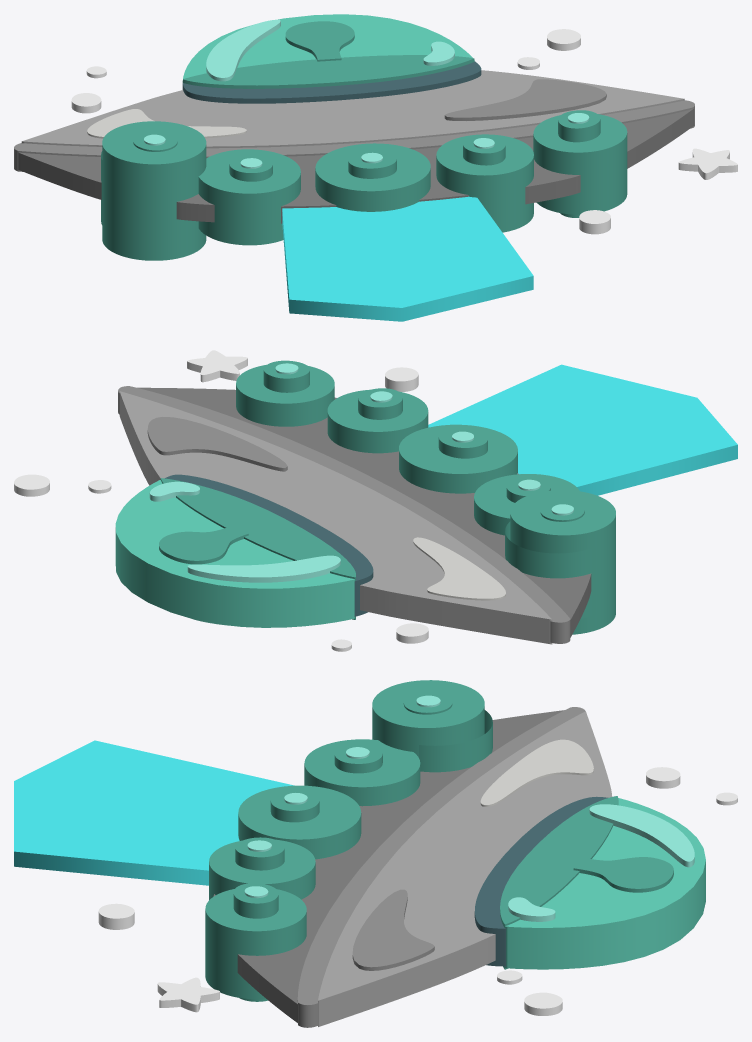
The model's file is emoji_u1f6f8.glb.
3 renders of one model, top to bottom at view 1: azimuth 30°, elevation 25°; view 2: azimuth 150°, elevation 25°; view 3: azimuth 270°, elevation 25°, orthographic. The views are drawn at different scales.
Visible parts, largest first — view 1: emoji_u1f6f8; view 2: emoji_u1f6f8; view 3: emoji_u1f6f8.
Part boxes in pixels (x1,y1,x2,y2): emoji_u1f6f8: (14,14,737,321); emoji_u1f6f8: (14,350,737,651); emoji_u1f6f8: (14,680,737,1027).
Bounding box in the file's own units: 0.0338 × 0.006 × 0.0347.
